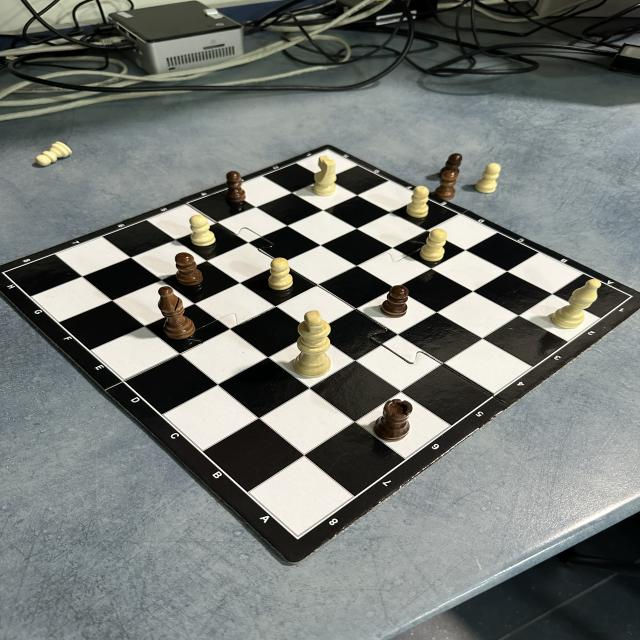Black-Bishop: (158, 286, 195, 338)
Black-Pawn: (175, 252, 203, 287), (381, 283, 408, 318), (224, 171, 245, 204), (435, 170, 457, 200), (440, 154, 461, 178)
Black-Rook: (374, 397, 412, 441)
White-Bishop: (552, 278, 602, 328)
White-King: (294, 311, 332, 377)
White-Knight: (314, 156, 336, 195)
White-Pawn: (35, 140, 73, 167), (420, 228, 447, 261), (267, 257, 293, 291), (189, 215, 216, 246), (476, 162, 502, 194), (406, 185, 429, 218)
